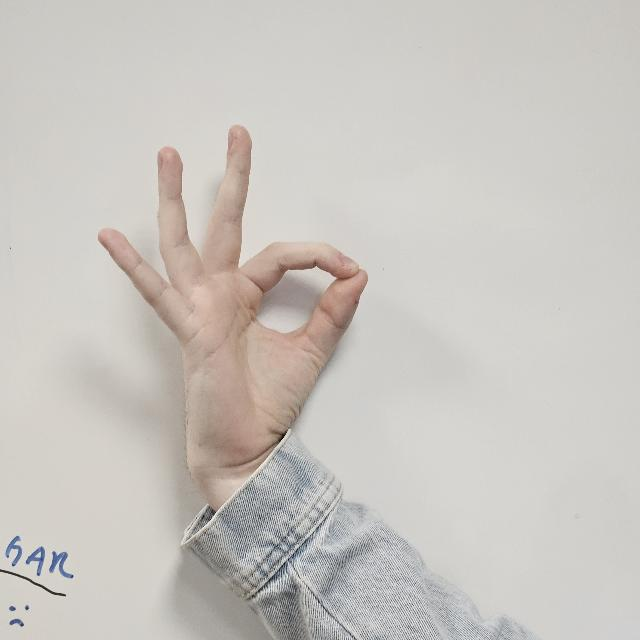Bolinha: (96, 120, 372, 492)
